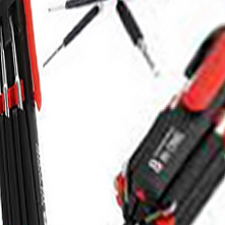screwdriver: (41, 1, 170, 80)
